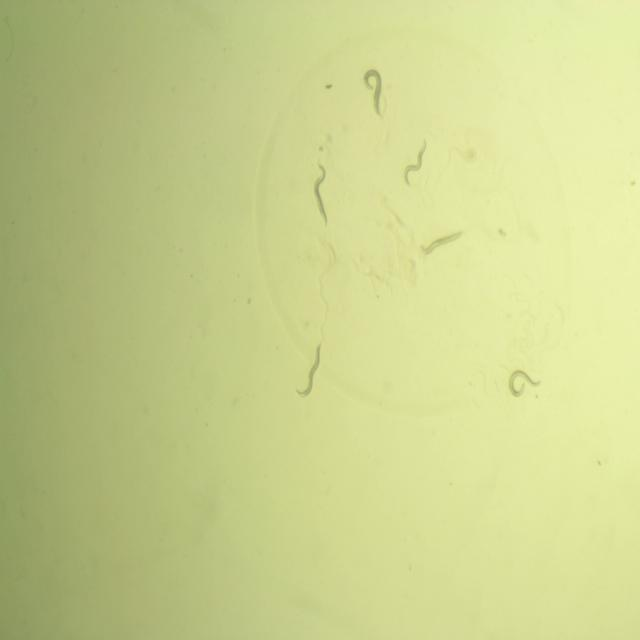worm: (294, 334, 327, 402), (414, 223, 468, 262), (309, 154, 334, 234), (356, 66, 391, 120), (397, 136, 431, 190), (506, 360, 544, 403)
